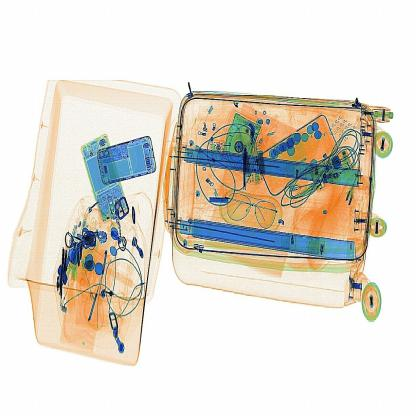knife: (235, 140, 258, 197)
